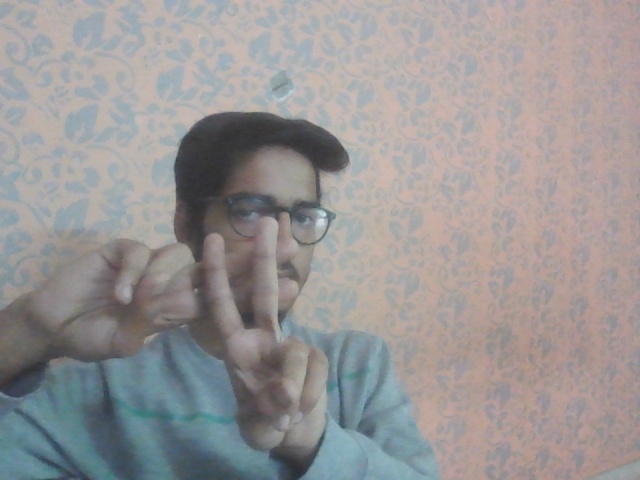HackJMI: (22, 215, 335, 454)
